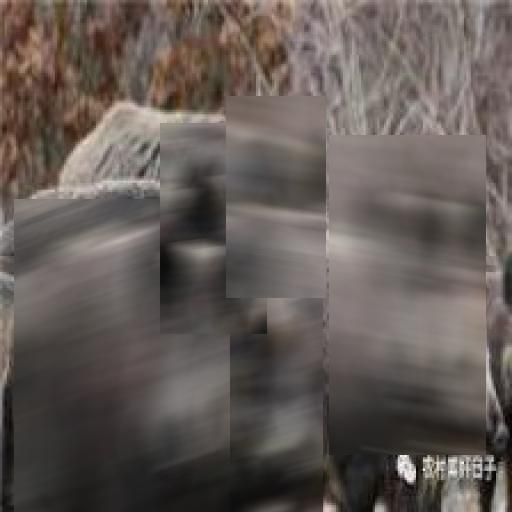Pig: (14, 199, 241, 512), (329, 135, 486, 455), (160, 123, 267, 334), (230, 276, 323, 512), (226, 96, 326, 298)
